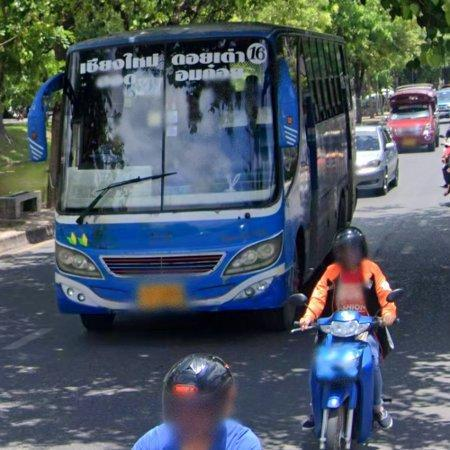buses: (27, 23, 356, 331)
